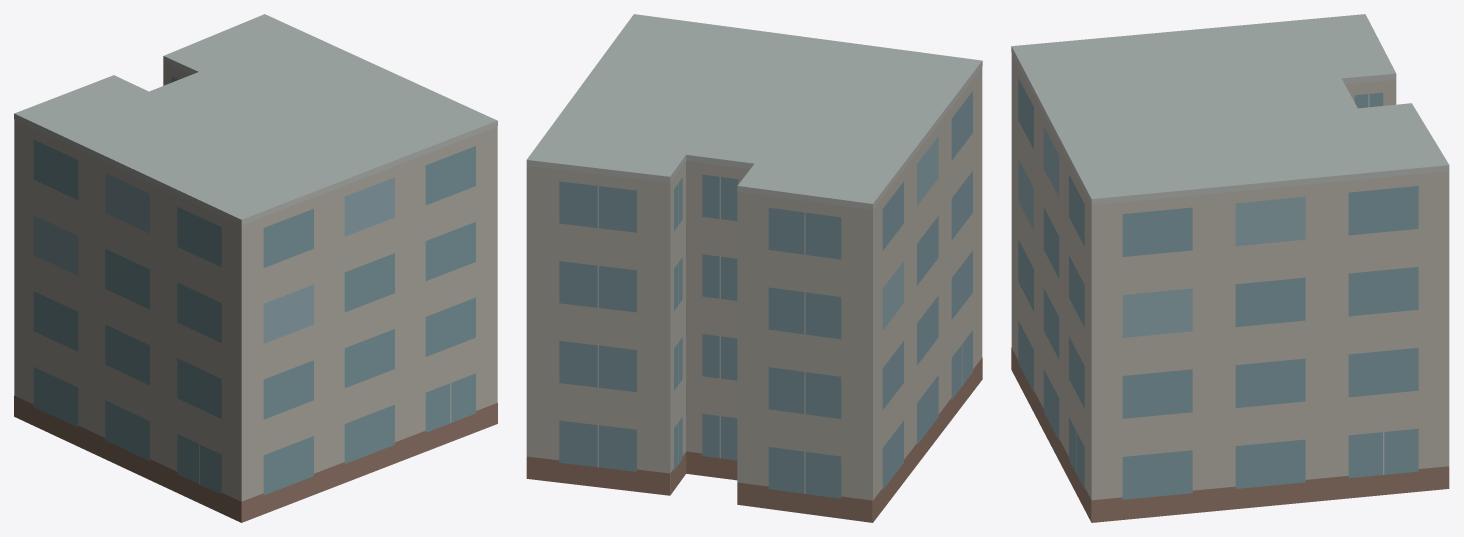
File: survey-upis-32718245.glb
The picture shows the model from 3 angles, left to right: view 1: azimuth 30°, elevation 25°; view 2: azimuth 150°, elevation 25°; view 3: azimuth 270°, elevation 25°; orthographic projection. The views are drawn at different scales.
Visible parts, largest first — view 1: survey-upis-32718245.tmp; view 2: survey-upis-32718245.tmp; view 3: survey-upis-32718245.tmp.
Boxes of the visible parts, <box> form: survey-upis-32718245.tmp: <box>14,14,497,522</box>; survey-upis-32718245.tmp: <box>526,14,982,522</box>; survey-upis-32718245.tmp: <box>1011,14,1449,522</box>.
Bounding box in the file's own units: 15.9 × 12.95 × 15.89.
